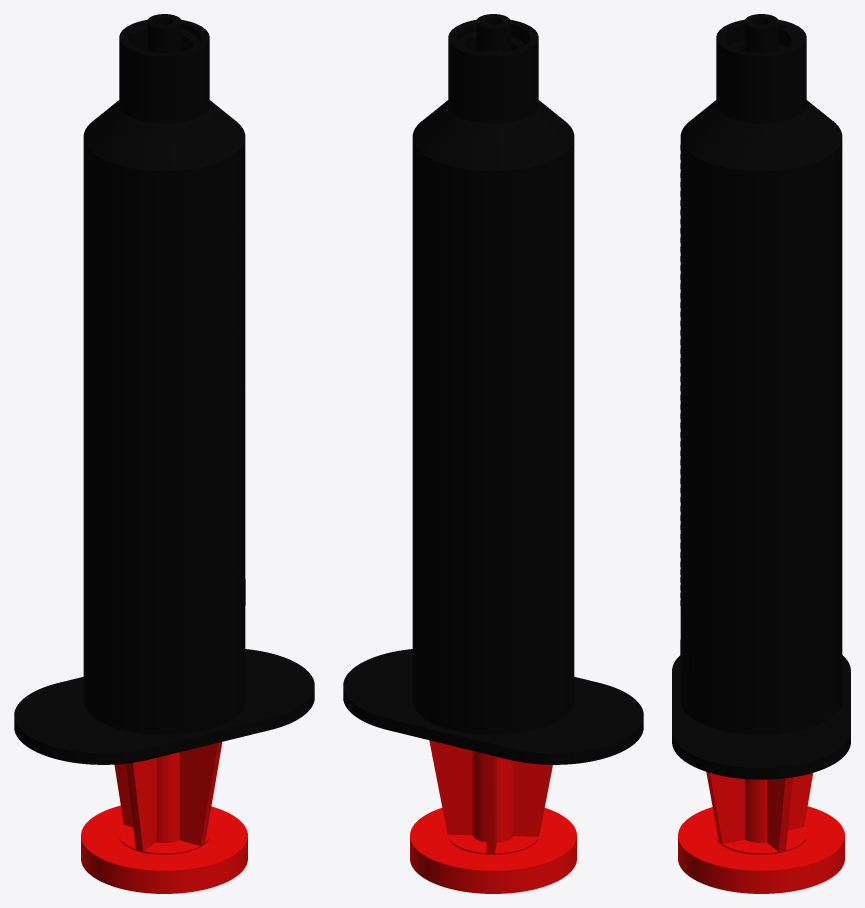
File: Seringue (1).glb
The picture shows the model from 3 angles, left to right: view 1: azimuth 30°, elevation 25°; view 2: azimuth 150°, elevation 25°; view 3: azimuth 270°, elevation 25°; orthographic projection.
Visible parts, largest first — view 1: Corps_Graduation_1.STEP (×2), Couleur_10301100.STEP; view 2: Corps_Graduation_1.STEP (×2), Couleur_10301100.STEP; view 3: Corps_Graduation_1.STEP (×2), Couleur_10301100.STEP.
Boxes of the visible parts, box(x1,y1,x2,y2) form: Corps_Graduation_1.STEP (×2): box(14, 14, 314, 764); Couleur_10301100.STEP: box(81, 742, 247, 893); Corps_Graduation_1.STEP (×2): box(343, 14, 643, 764); Couleur_10301100.STEP: box(410, 740, 576, 893); Corps_Graduation_1.STEP (×2): box(672, 14, 850, 779); Couleur_10301100.STEP: box(678, 772, 844, 893).
Bounding box in the file's own units: 0.0375 × 0.1085 × 0.021.
